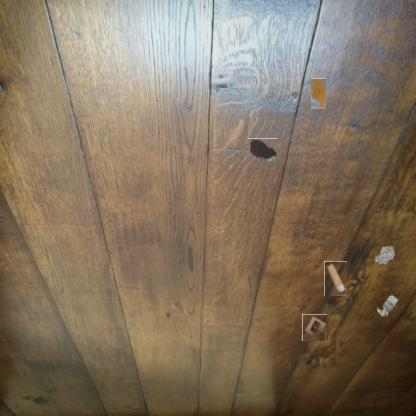dirty: (324, 261, 347, 296), (302, 314, 327, 341), (375, 294, 399, 318), (164, 298, 186, 320), (374, 245, 394, 265)
liquid: (248, 138, 278, 163), (310, 78, 326, 109)
